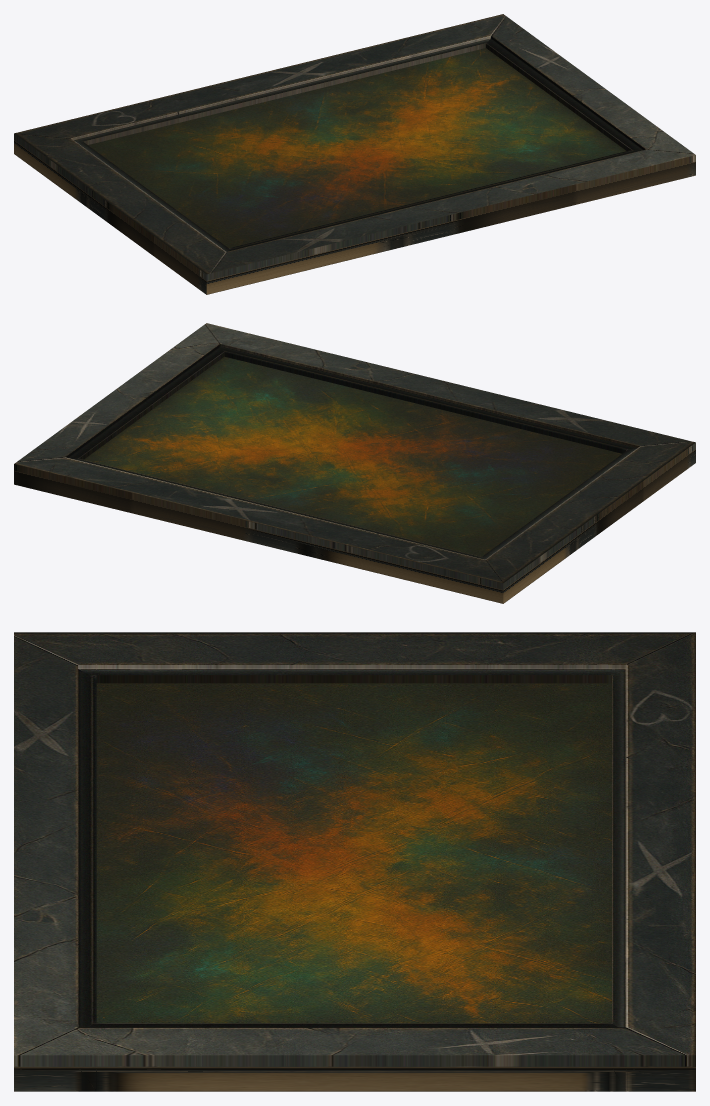
File: ergenanı2.fbx
The picture shows the model from 3 angles, top to bottom: view 1: azimuth 30°, elevation 25°; view 2: azimuth 150°, elevation 25°; view 3: azimuth 270°, elevation 25°; orthographic projection. The views are drawn at different scales.
Visible parts, largest first — view 1: Ergen Anı 2; view 2: Ergen Anı 2; view 3: Ergen Anı 2.
Boxes of the visible parts, bbox=[...] form: Ergen Anı 2: bbox=[14, 14, 695, 294]; Ergen Anı 2: bbox=[14, 323, 695, 603]; Ergen Anı 2: bbox=[14, 632, 695, 1091].
Size of the model in its own units: 403 by 16.18 by 275.
